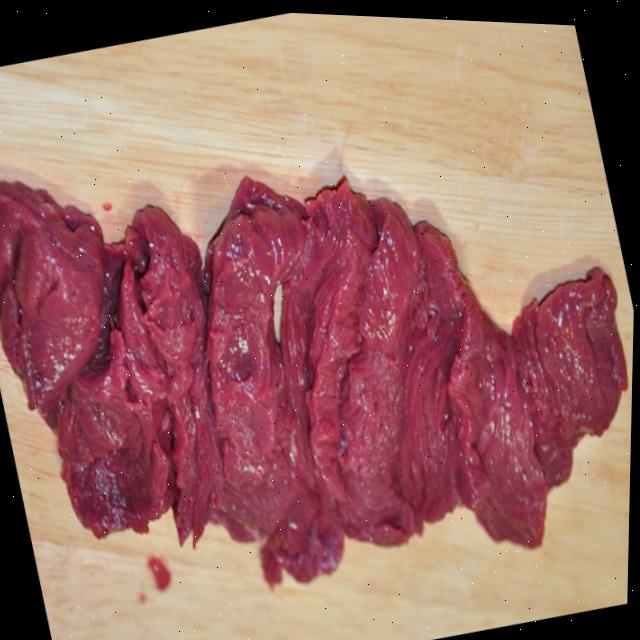刺身生食: (0, 3, 640, 640)
